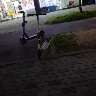beam: (15, 10, 46, 46)
gcooter: (25, 12, 54, 60)
